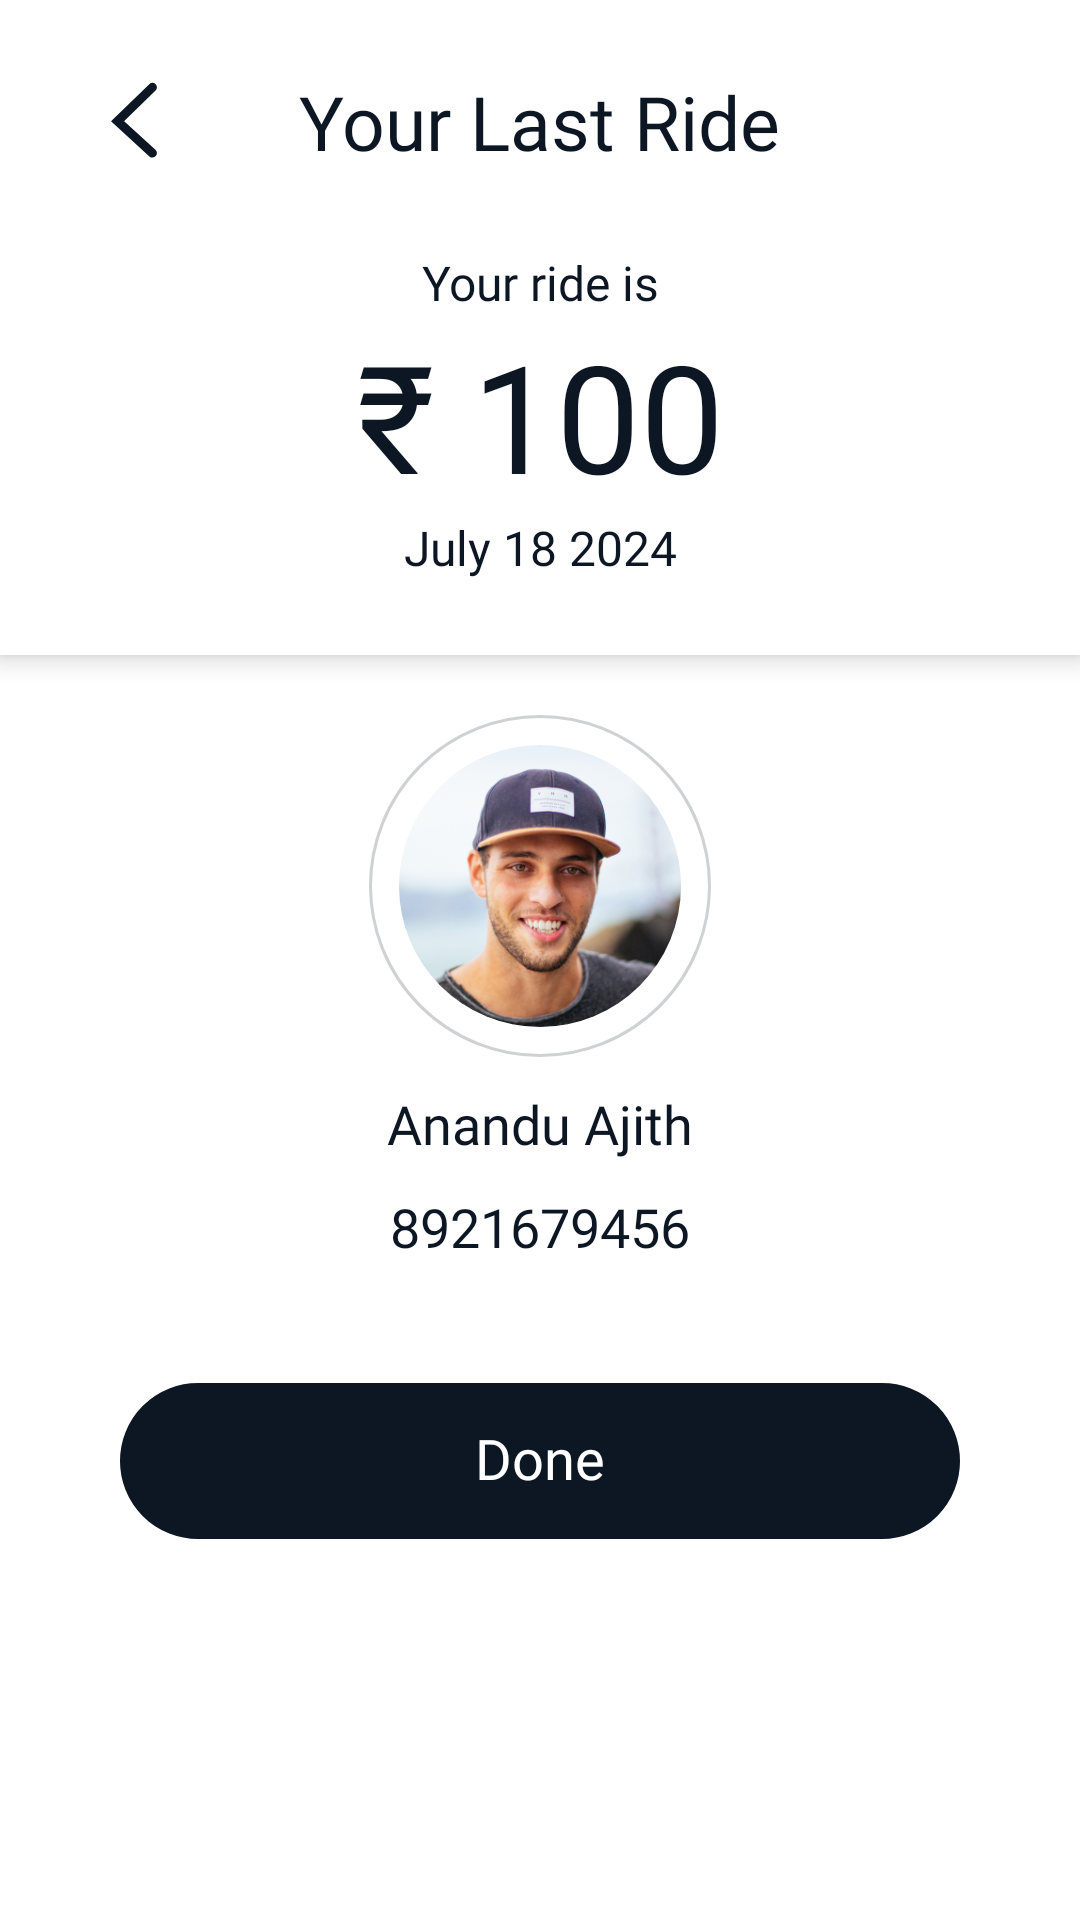

Locate icon controls on the screen. Image size 1080x1920, boxes as (x1, y1, x2, y2).
back arrow: (111, 82, 157, 158)
profile pic: (369, 715, 711, 1057)
